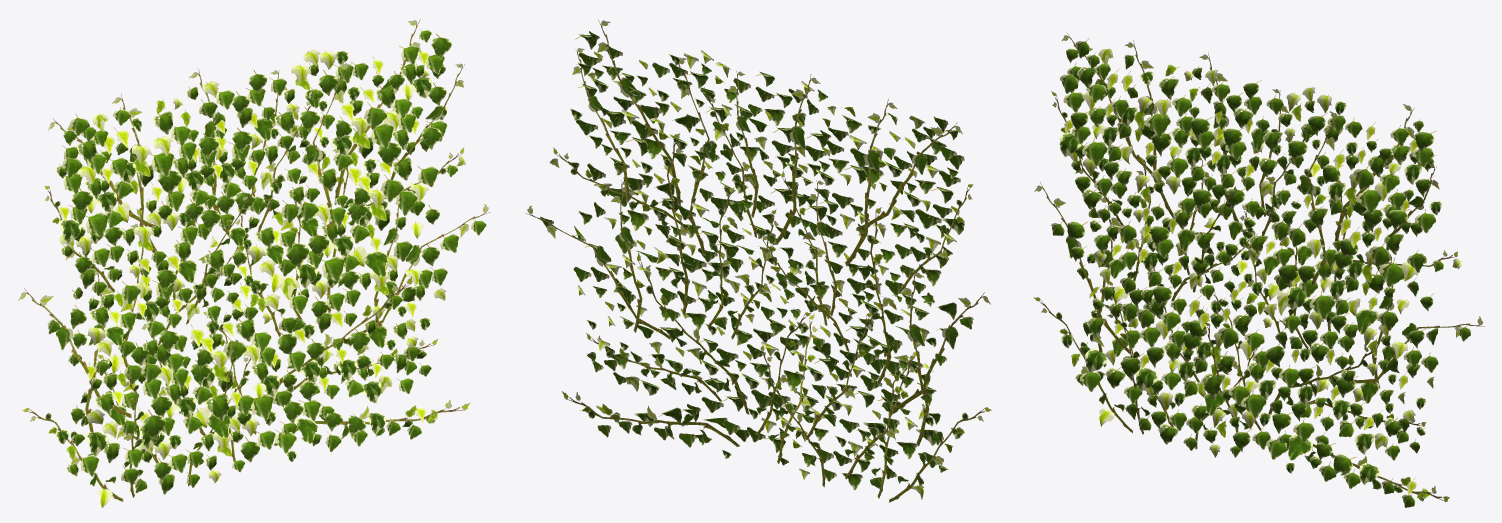
Rendered from lierre_var_2.fbx.
3 renders of one model, left to right at view 1: azimuth 30°, elevation 25°; view 2: azimuth 150°, elevation 25°; view 3: azimuth 330°, elevation 25°, orthographic. The views are drawn at different scales.
Parts seen in each view (by area): view 1: _e201_Var2_LOD1; view 2: _e201_Var2_LOD1; view 3: _e201_Var2_LOD1.
Boxes of the visible parts, x1,y1,x2,y2 form: _e201_Var2_LOD1: [18, 19, 490, 507]; _e201_Var2_LOD1: [525, 19, 991, 502]; _e201_Var2_LOD1: [1033, 33, 1484, 507].
Bounding box in the file's own units: 123 × 107 × 11.79.
